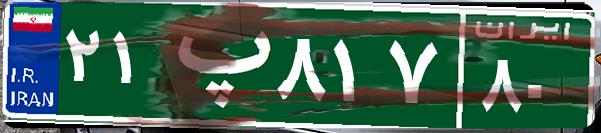0: (525, 38, 570, 115)
1: (330, 28, 385, 110), (110, 28, 158, 105)
2: (57, 26, 110, 107)
7: (385, 28, 445, 110)
8: (273, 28, 330, 110), (475, 38, 525, 113)
پ: (158, 15, 273, 115)
